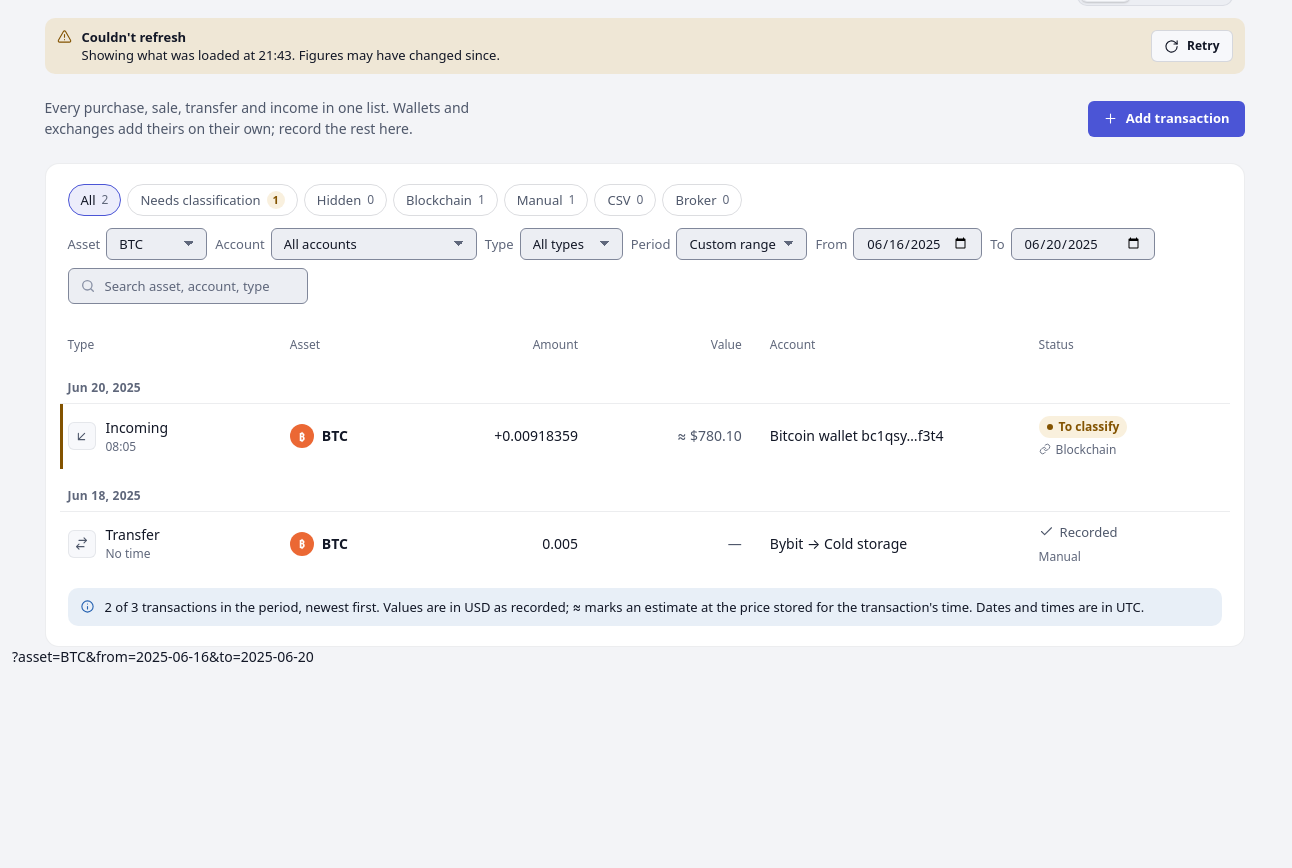
Test: TransactionsPage (list-all-operations) › OPS-PERIOD: the period is asked of the server, lives in the address and keeps the other filters
Expected: the dropdown labelled "Period" shows "Custom range", [676,228,807,260]
Expected: the date field labelled "From" holds "2025-06-16", [853,228,982,260]
Type "2025-06-14" into the date field labelled "To".
click(1082, 244); type("2025-06-14")  # box [1010,228,1154,260]
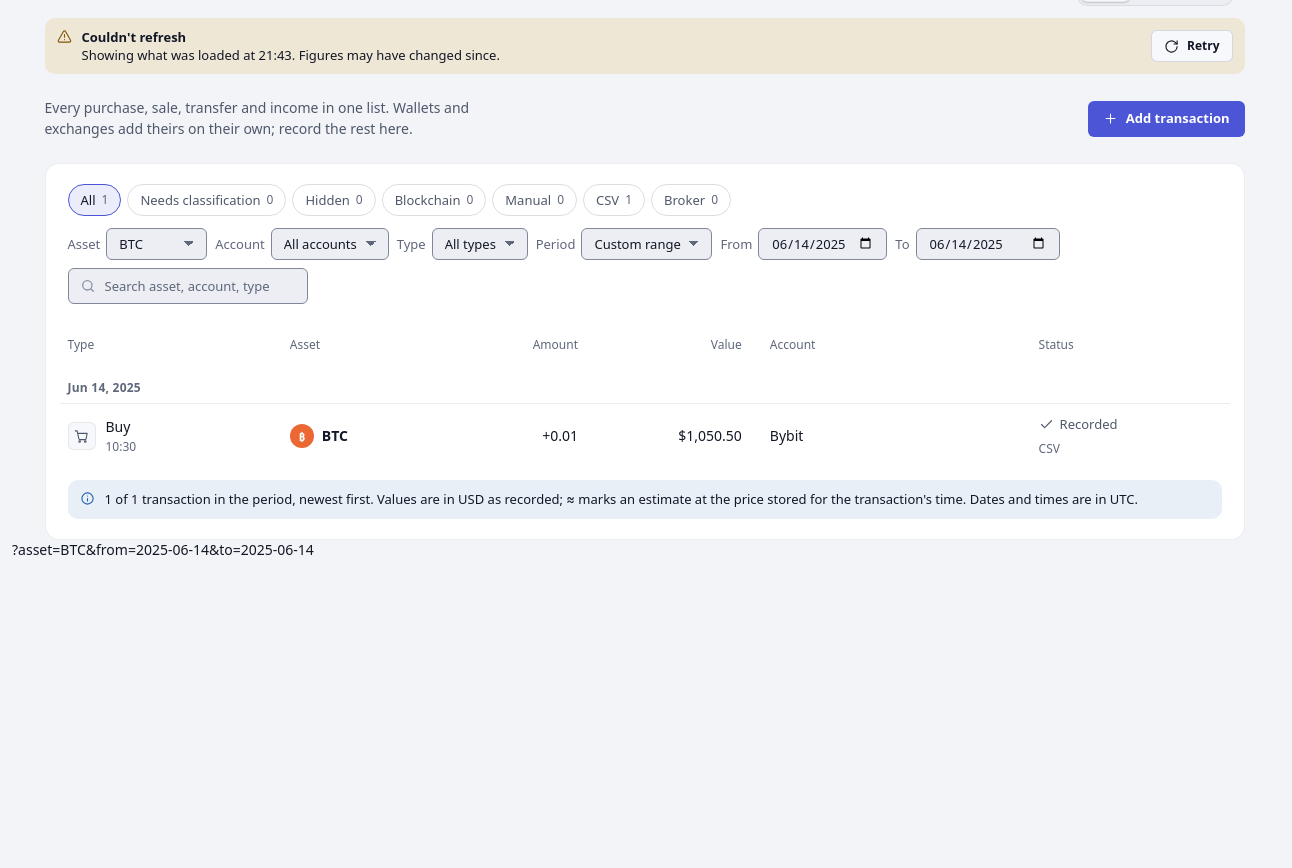
Now the date field labelled "From" holds "2025-06-14", box [758,228,887,260]
Now the text named "Address" reads "?asset=BTC&from=2025-06-14&to=2025-06-14", box [12,540,314,558]
Select "Last 30 days" in the dropdown labelled "Period" at coordinates (647, 244), box [581,228,712,260]
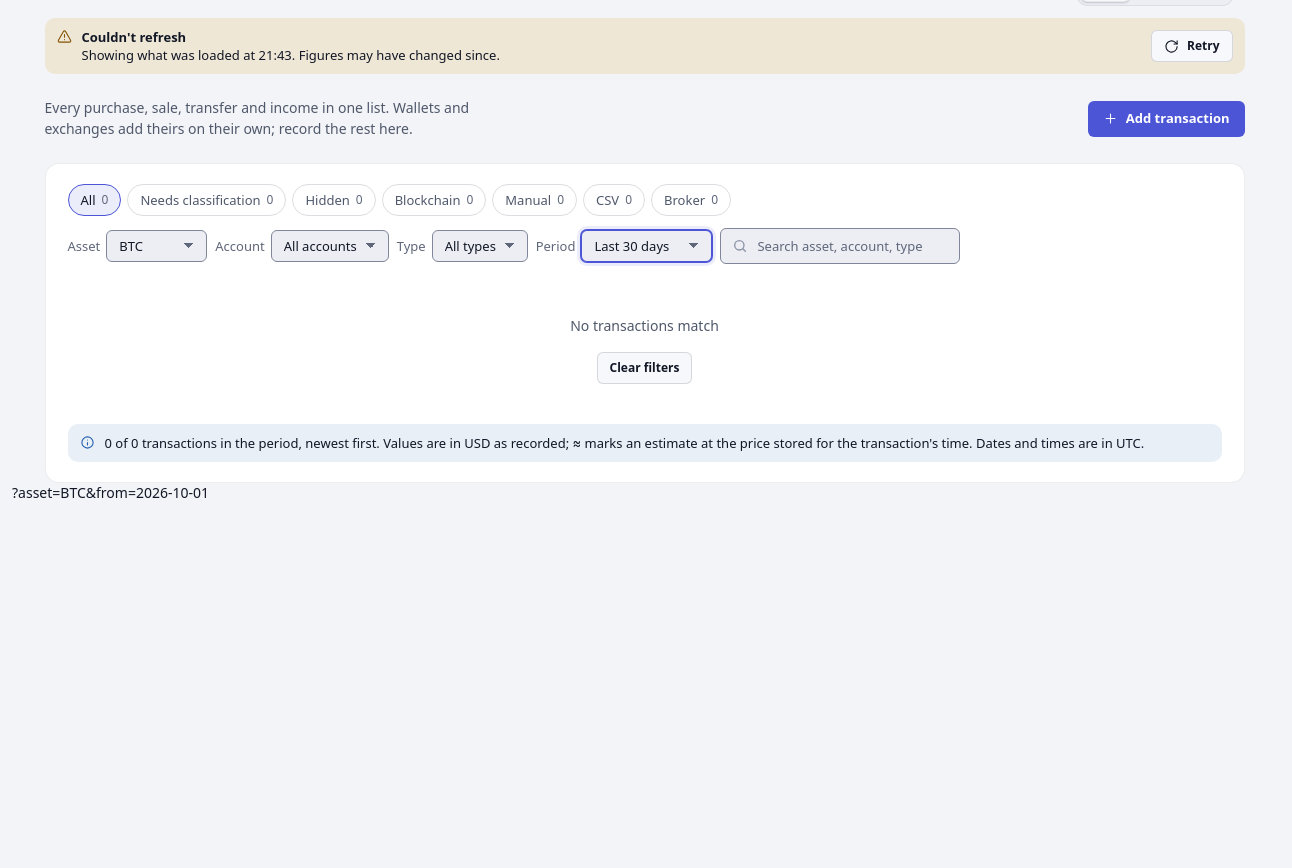
Now the text named "Address" reads "?asset=BTC&from=2026-10-01", box [12,484,209,502]
Select "All time" in the dropdown labelled "Period" at coordinates (647, 246), box [581,230,712,262]
(page scrolled)
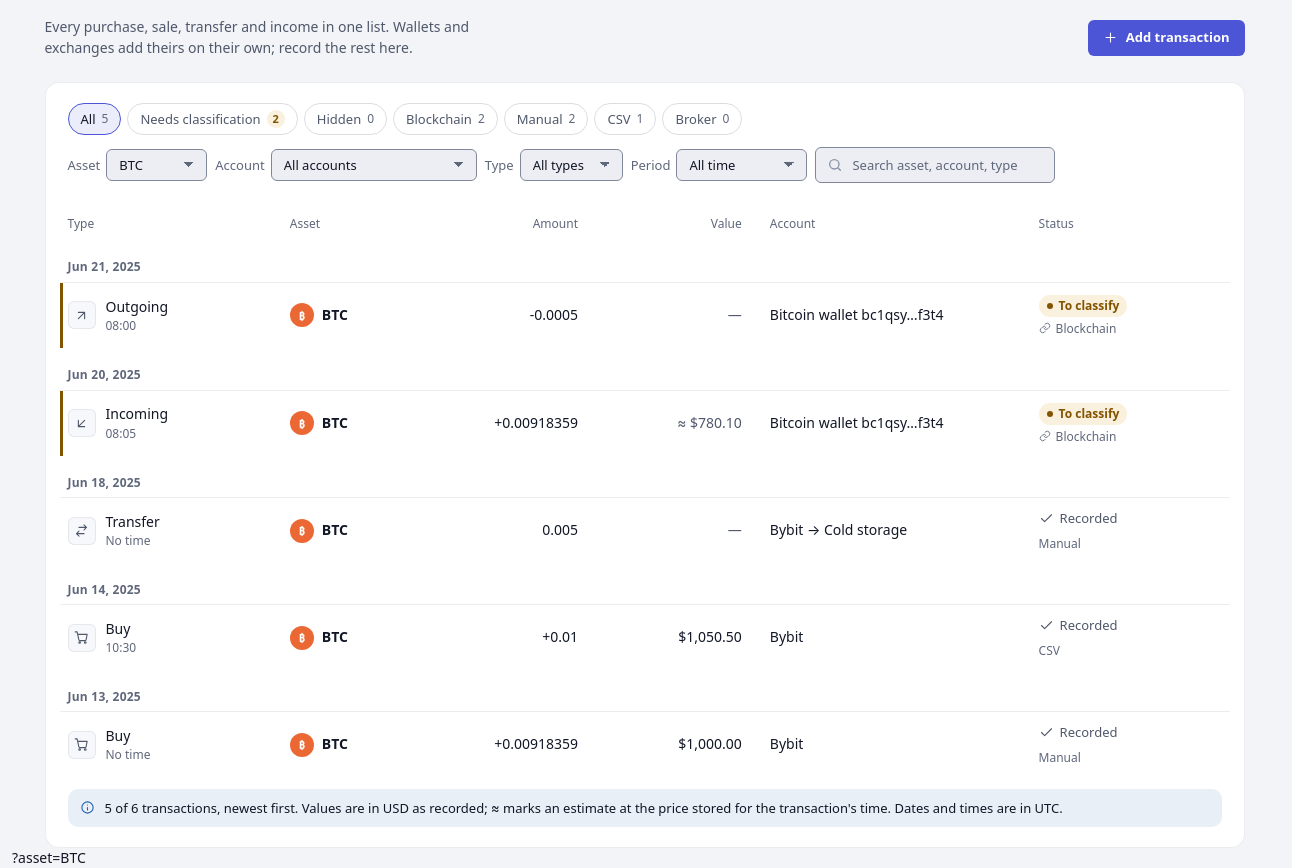
Now the text named "Address" reads "?asset=BTC", box [12,848,86,867]
